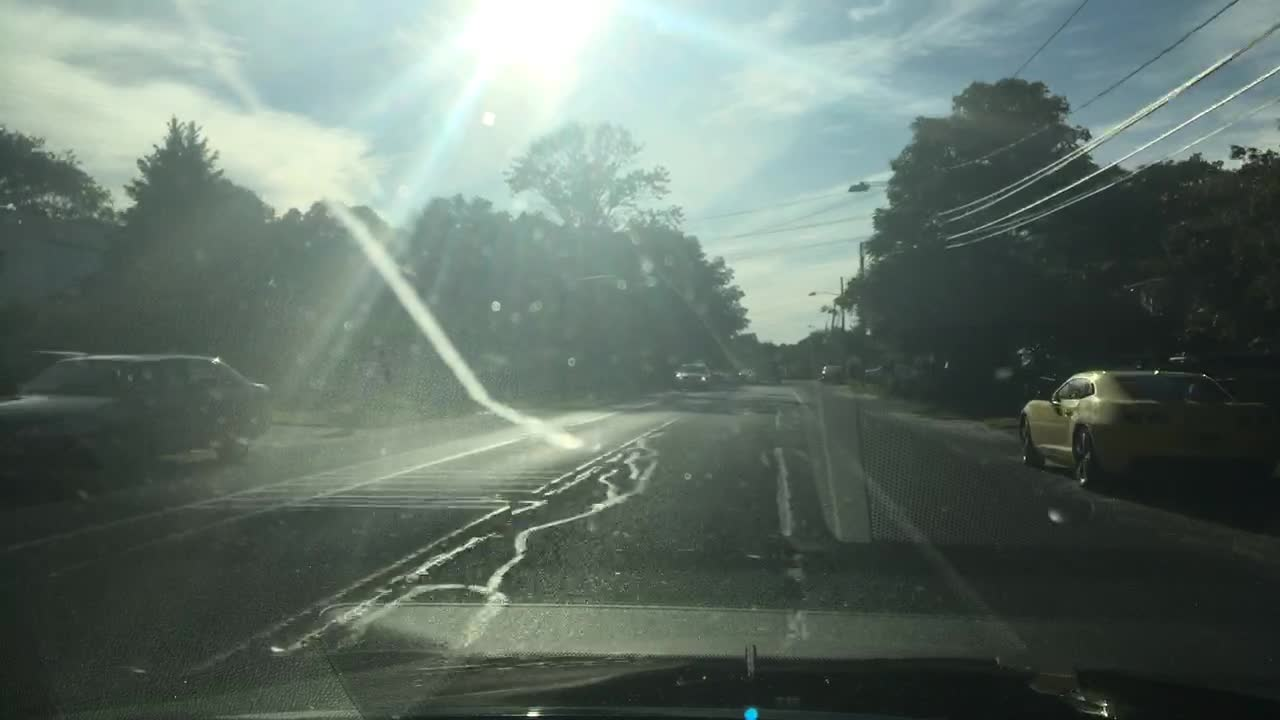car: (0, 354, 272, 482), (1014, 366, 1275, 495), (673, 362, 712, 392), (817, 365, 845, 383), (712, 366, 736, 384), (865, 365, 886, 383), (737, 366, 757, 383), (773, 365, 788, 378)
